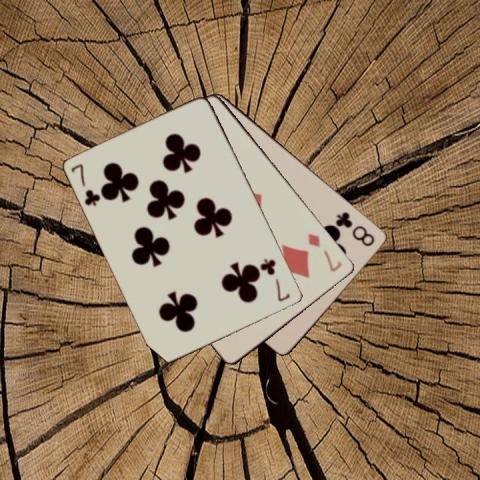7c: (259, 255, 292, 304), (68, 161, 102, 207)
7d: (305, 230, 344, 273)
8c: (333, 209, 377, 248)
